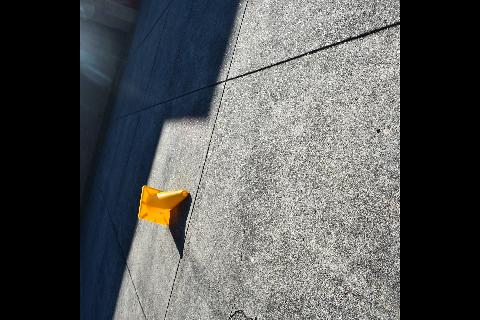cone: (139, 185, 187, 225)
